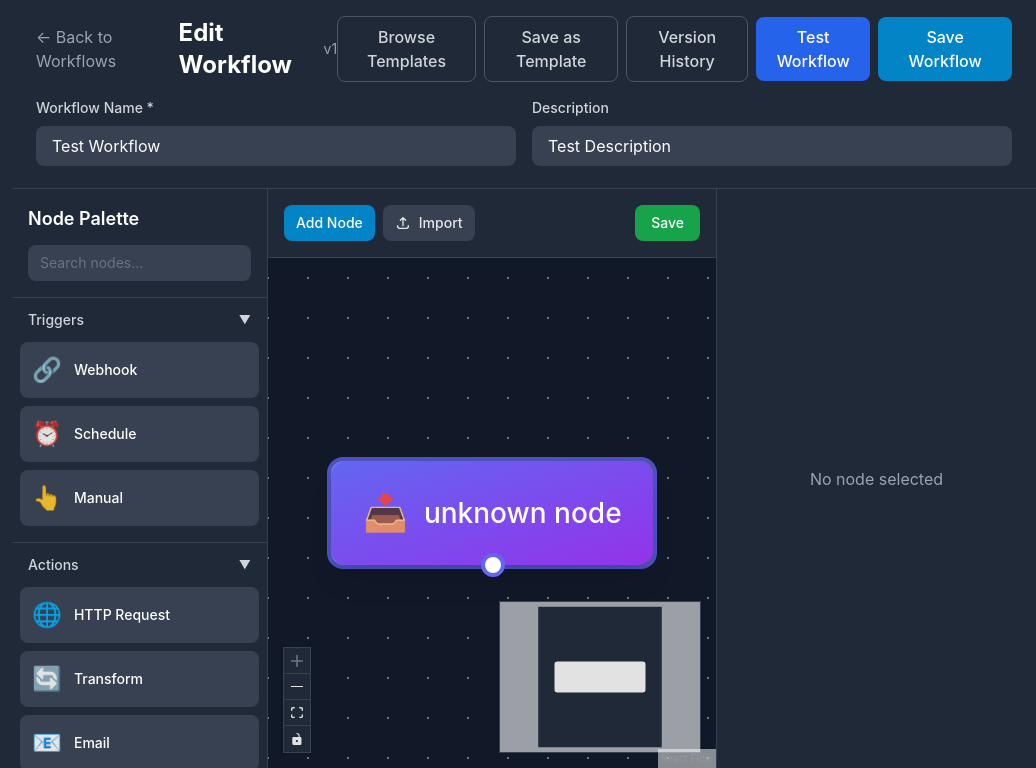
Test: WorkflowEditor Integration Tests › Save Workflow Button › should show error message when save fails
This screenshot has width=1036, height=768.
expect the field with placeholder "Enter workflow name" is shown: met, box x1=36 y1=126 x2=516 y2=166
// Click Save Workflow button
Click the button "Save Workflow" at (945, 49), box x1=878 y1=17 x2=1012 y2=81
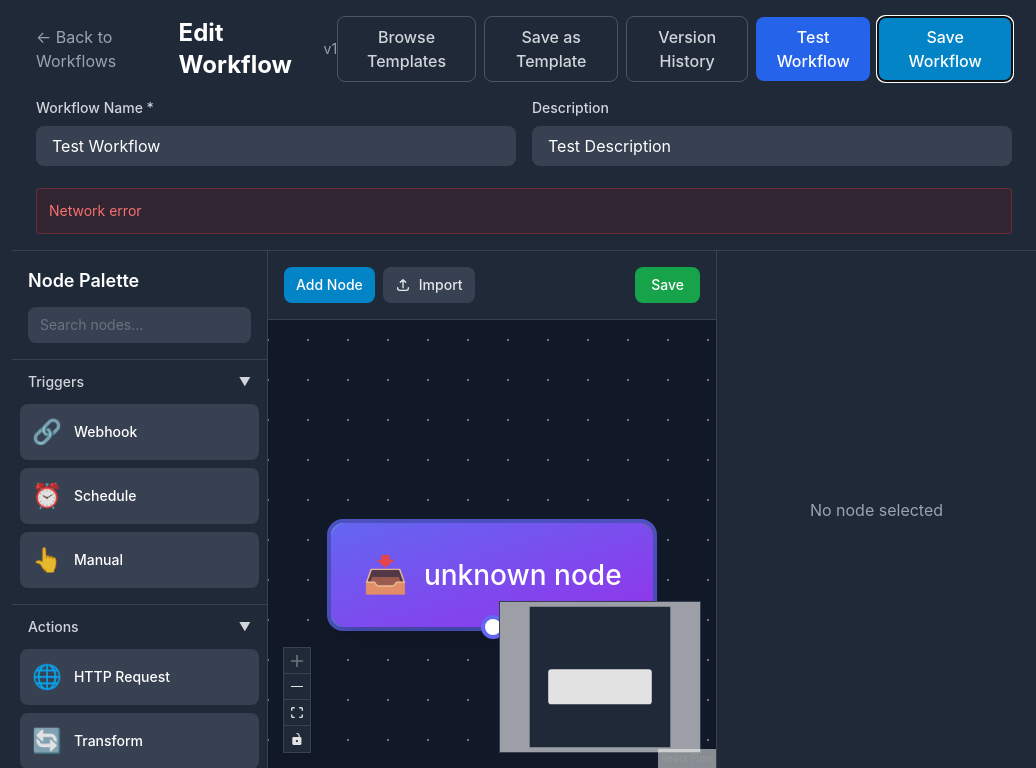
expect the text "Network error" is shown: met, box x1=36 y1=188 x2=1012 y2=234
